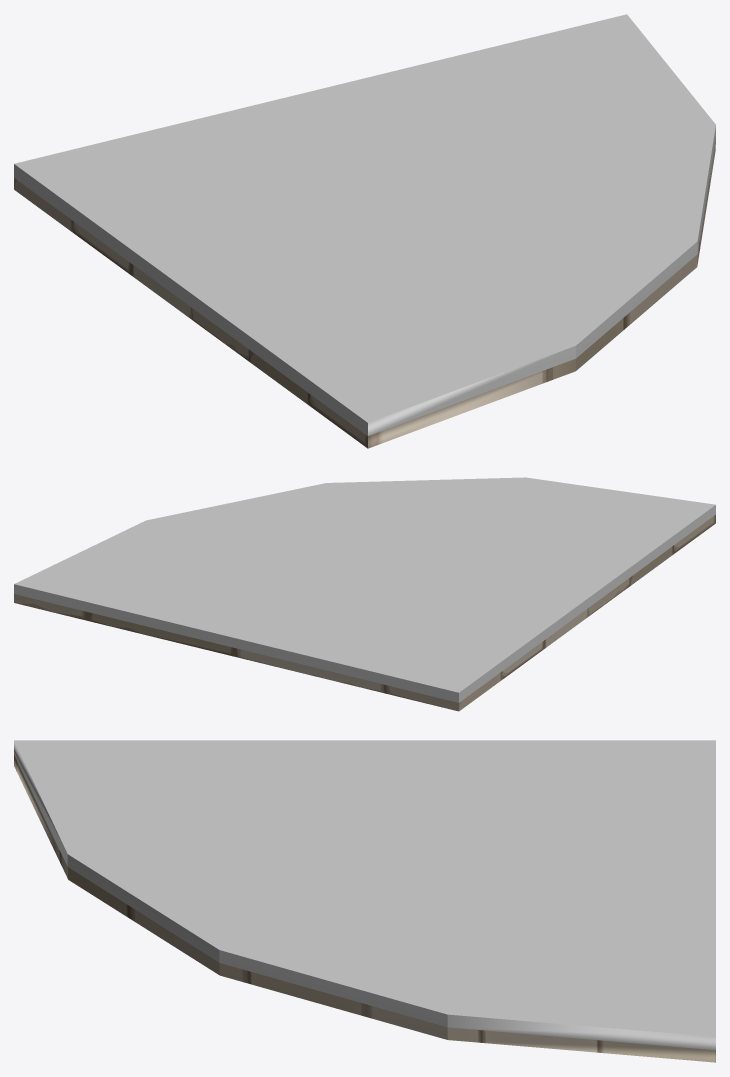
File: SM_Bld_Floor_Round_01.fbx
3 renders of one model, top to bottom at view 1: azimuth 30°, elevation 25°; view 2: azimuth 150°, elevation 25°; view 3: azimuth 270°, elevation 25°, orthographic. The views are drawn at different scales.
Visible parts, largest first — view 1: SM_Bld_Floor_Round_01; view 2: SM_Bld_Floor_Round_01; view 3: SM_Bld_Floor_Round_01.
Boxes of the visible parts, box(x1,y1,x2,y2) form: SM_Bld_Floor_Round_01: box(14, 14, 715, 448); SM_Bld_Floor_Round_01: box(14, 477, 715, 711); SM_Bld_Floor_Round_01: box(14, 740, 715, 1062).
Bounding box in the file's own units: 250 × 10.06 × 250.
